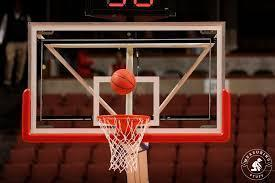ball: (110, 68, 137, 96)
rim: (98, 115, 150, 172)
